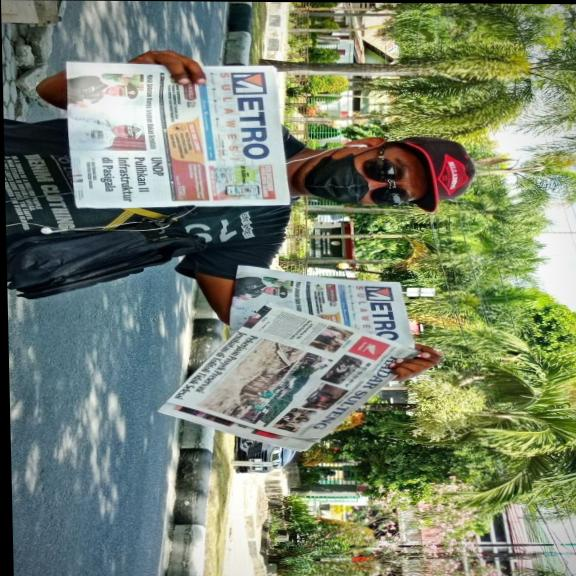Kertas: (159, 266, 415, 450), (66, 62, 289, 209)
